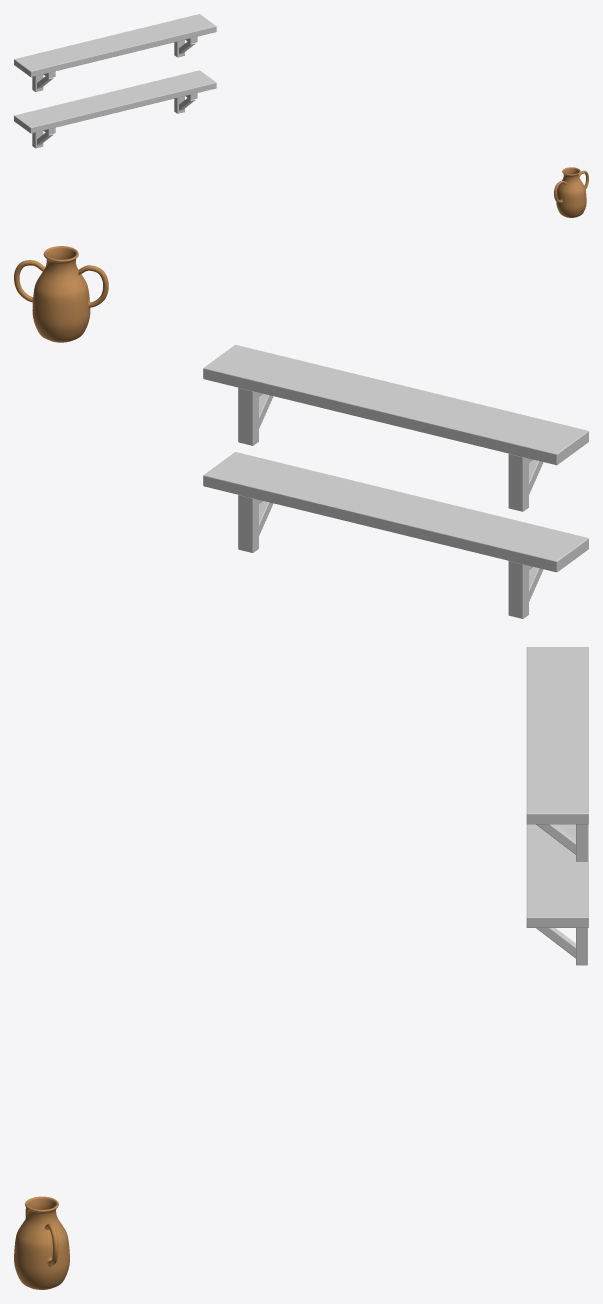
Rendered from Maison_Corrections.fbx.
The picture shows the model from 3 angles, top to bottom: view 1: azimuth 30°, elevation 25°; view 2: azimuth 150°, elevation 25°; view 3: azimuth 270°, elevation 25°; orthographic projection. The views are drawn at different scales.
Visible parts, largest first — view 1: E01_Modele, E02_Modele, D01_Modele; view 2: E02_Modele, E01_Modele, D01_Modele; view 3: E02_Modele, E01_Modele, D01_Modele.
Part boxes in pixels (x1=…): E01_Modele: x1=14, y1=70, x2=216, y2=148; E02_Modele: x1=14, y1=14, x2=216, y2=91; D01_Modele: x1=554, y1=167, x2=588, y2=217; E02_Modele: x1=203, y1=345, x2=588, y2=511; E01_Modele: x1=203, y1=452, x2=588, y2=618; D01_Modele: x1=14, y1=246, x2=108, y2=342; E02_Modele: x1=526, y1=647, x2=588, y2=861; E01_Modele: x1=526, y1=824, x2=588, y2=965; D01_Modele: x1=14, y1=1196, x2=69, y2=1289.
Size of the model in its own units: 439 by 143 by 276.
